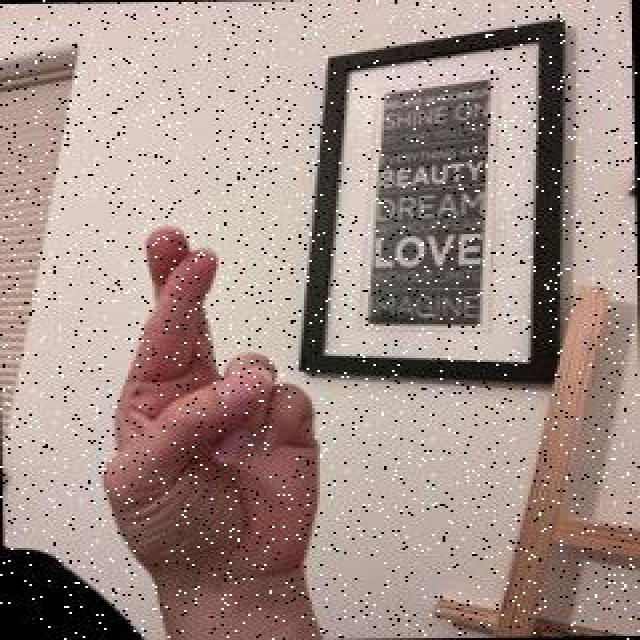R: (84, 213, 335, 599)
